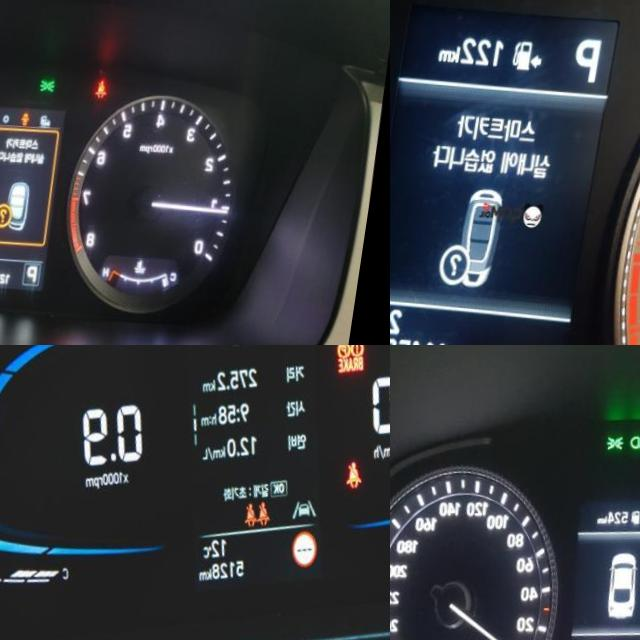LaneCenteringOff: (304, 489, 333, 515)
Low beam: (635, 427, 640, 445)
SideLamp: (612, 428, 633, 446), (47, 71, 65, 88)
